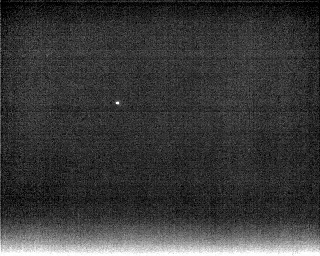BIRD: (113, 98, 122, 108)
